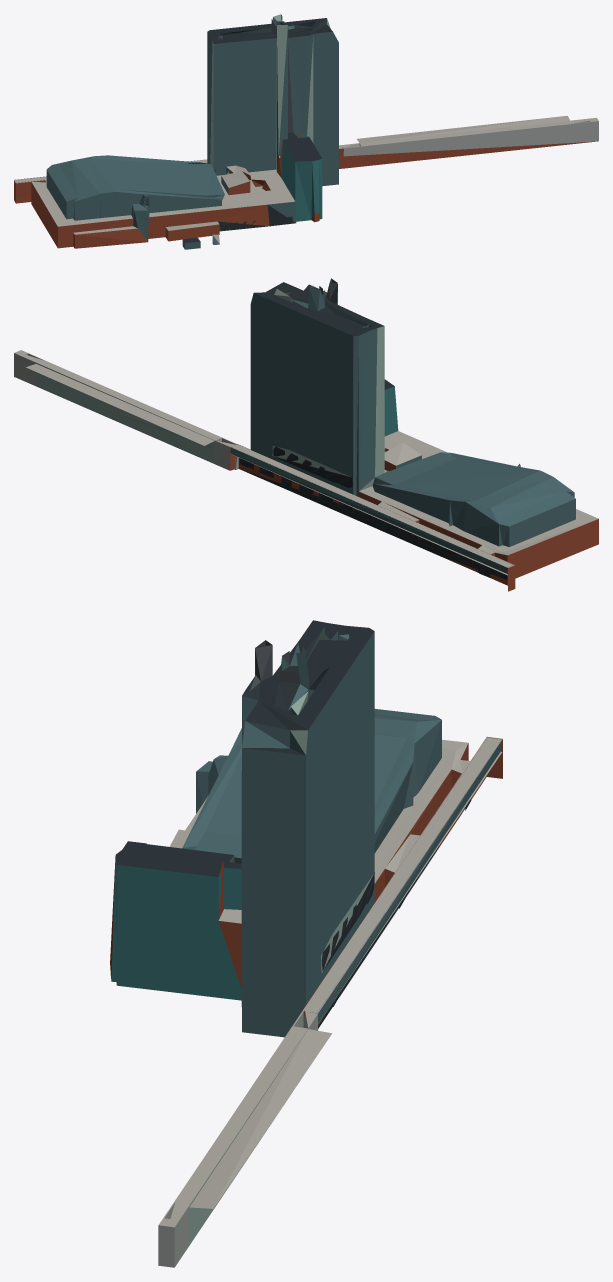
File: ij-toren.lod2.glb
The picture shows the model from 3 angles, top to bottom: view 1: azimuth 30°, elevation 25°; view 2: azimuth 150°, elevation 25°; view 3: azimuth 270°, elevation 25°; orthographic projection. The views are drawn at different scales.
Parts seen in each view (by area): view 1: lod2; view 2: lod2; view 3: lod2.
Part boxes in pixels (bbox=[...]): lod2: bbox=[14, 14, 598, 249]; lod2: bbox=[14, 278, 598, 591]; lod2: bbox=[110, 620, 502, 1267].
Bounding box in the file's own units: 282 × 87.79 × 92.6.
